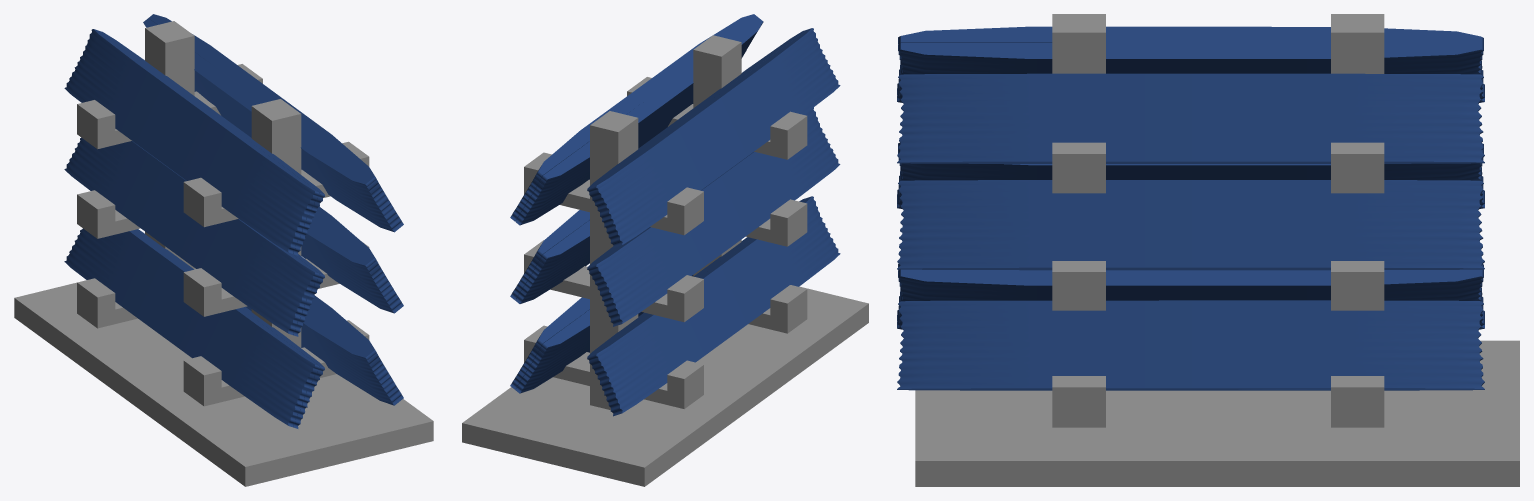
Rendered from barra armas.fbx.
3 renders of one model, left to right at view 1: azimuth 30°, elevation 25°; view 2: azimuth 150°, elevation 25°; view 3: azimuth 270°, elevation 25°, orthographic. The views are drawn at different scales.
Parts seen in each view (by area): view 1: Box001, Box004, Box002, Box003, Box007, Box005, Box006; view 2: Box001, Box004, Box002, Box003, Box007, Box006, Box005; view 3: Box001, Box007, Box006, Box005, Box004, Box002, Box003.
Boxes of the visible parts, bbox=[...] form: Box001: bbox=[14, 21, 433, 486]; Box004: bbox=[64, 29, 324, 255]; Box002: bbox=[64, 228, 324, 428]; Box003: bbox=[64, 137, 324, 336]; Box007: bbox=[143, 14, 403, 232]; Box005: bbox=[245, 295, 403, 405]; Box006: bbox=[301, 207, 403, 313]; Box001: bbox=[462, 35, 868, 486]; Box004: bbox=[587, 28, 840, 247]; Box002: bbox=[587, 196, 840, 416]; Box003: bbox=[587, 107, 840, 326]; Box007: bbox=[510, 14, 763, 225]; Box006: bbox=[510, 210, 589, 303]; Box005: bbox=[510, 275, 693, 393]; Box001: bbox=[915, 14, 1519, 486]; Box007: bbox=[897, 73, 1484, 163]; Box006: bbox=[897, 180, 1484, 270]; Box005: bbox=[897, 300, 1484, 390]; Box004: bbox=[897, 26, 1484, 102]; Box002: bbox=[897, 263, 1484, 329]; Box003: bbox=[897, 142, 1484, 209].
Bounding box in the file's own units: 16.41 × 25.7 × 35.97.
